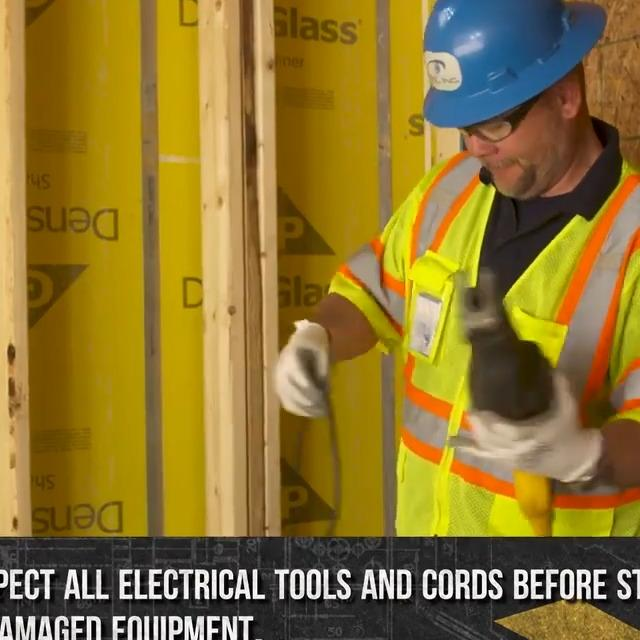Gloves: (449, 370, 602, 496), (272, 321, 333, 418)
Hardhat: (419, 0, 607, 126)
NO-Mask: (493, 153, 563, 197)
Person: (271, 0, 640, 538)
Safety Vest: (330, 144, 640, 537)
